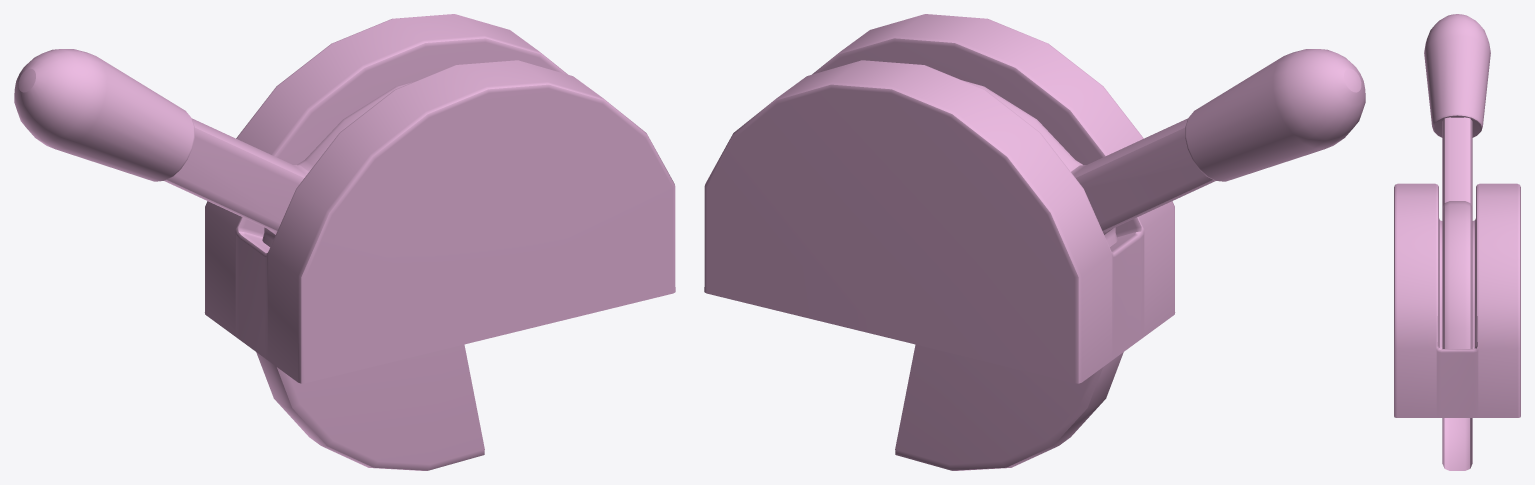
The model's file is Horizontal_Lever.fbx.
3 views of the same model, side by side, from view 1: azimuth 30°, elevation 25°; view 2: azimuth 150°, elevation 25°; view 3: azimuth 270°, elevation 25° (orthographic). The views are drawn at different scales.
Visible parts, largest first — view 1: horiz_lever_base, horiz_lever, horiz_lever_handle; view 2: horiz_lever_base, horiz_lever, horiz_lever_handle; view 3: horiz_lever_base, horiz_lever, horiz_lever_handle.
Boxes of the visible parts, x1,y1,x2,y2 form: horiz_lever_base: [204, 14, 675, 383]; horiz_lever: [164, 80, 484, 470]; horiz_lever_handle: [14, 49, 194, 181]; horiz_lever_base: [704, 14, 1175, 383]; horiz_lever: [895, 80, 1215, 470]; horiz_lever_handle: [1185, 49, 1365, 181]; horiz_lever_base: [1394, 183, 1520, 417]; horiz_lever: [1442, 117, 1472, 470]; horiz_lever_handle: [1424, 14, 1490, 137].
Size of the model in its own units: 0.6141 by 0.4814 by 0.1708.
